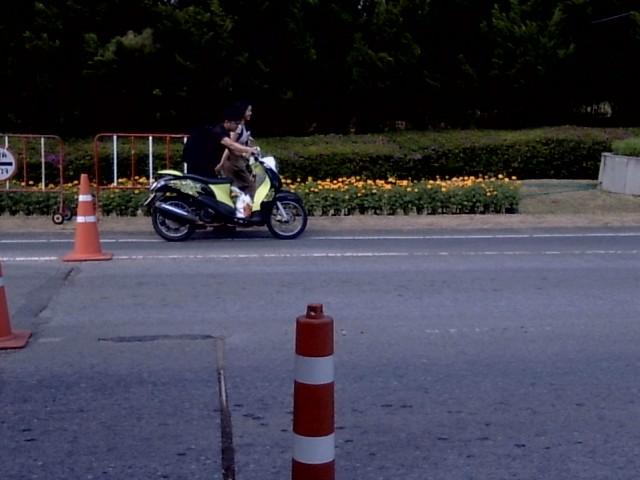motor: (142, 153, 307, 241)
no-helmet: (217, 108, 237, 128)
person: (183, 105, 257, 193), (216, 150, 254, 196), (230, 102, 252, 146)
